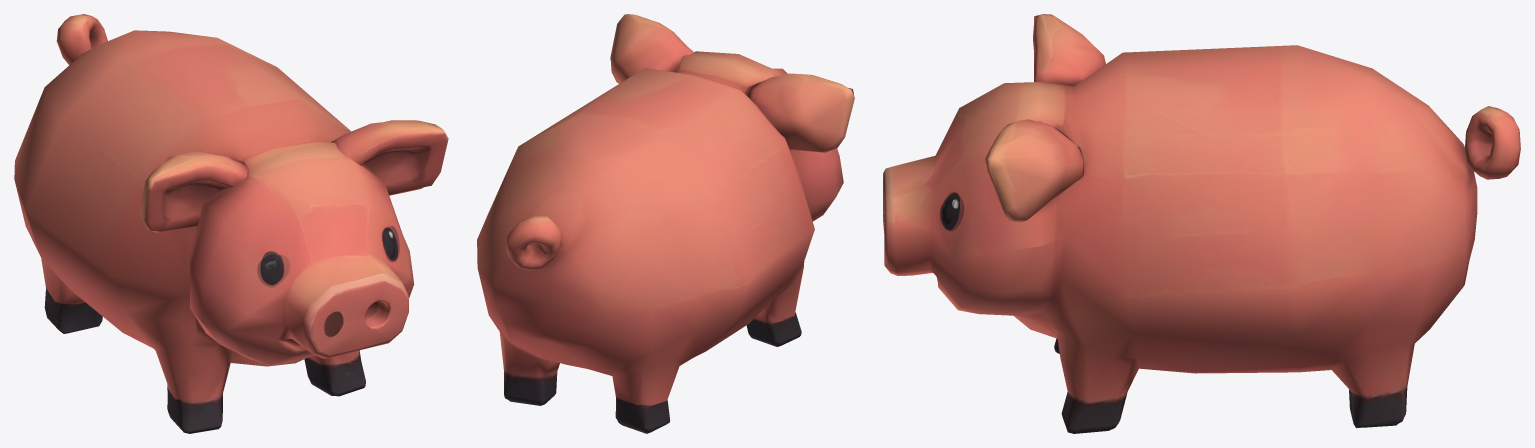
The picture shows the model from 3 angles, left to right: view 1: azimuth 30°, elevation 25°; view 2: azimuth 150°, elevation 25°; view 3: azimuth 270°, elevation 25°; orthographic projection. The views are drawn at different scales.
Visible parts, largest first — view 1: tripo_node_b76706c6-8740-445b-8275-8c4115cc174c; view 2: tripo_node_b76706c6-8740-445b-8275-8c4115cc174c; view 3: tripo_node_b76706c6-8740-445b-8275-8c4115cc174c.
Part boxes in pixels (x1,y1,x2,y2): tripo_node_b76706c6-8740-445b-8275-8c4115cc174c: (14, 14, 448, 433); tripo_node_b76706c6-8740-445b-8275-8c4115cc174c: (477, 14, 854, 433); tripo_node_b76706c6-8740-445b-8275-8c4115cc174c: (883, 14, 1520, 433).
Bounding box in the file's own units: 0.5645 × 0.5527 × 0.998.
1 material, 1 textured.
